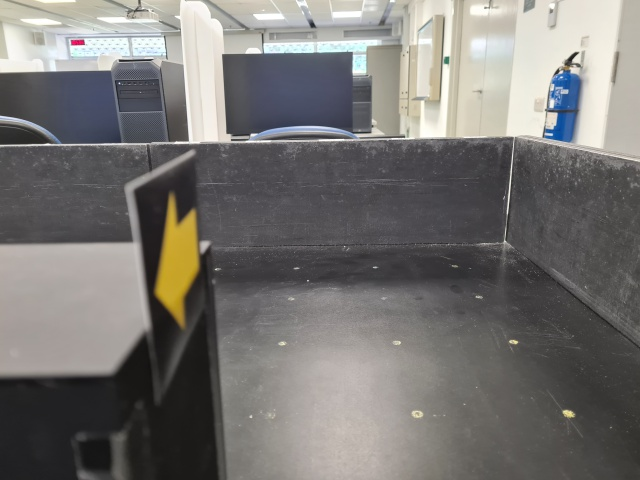right_arrow: (122, 148, 208, 407)
